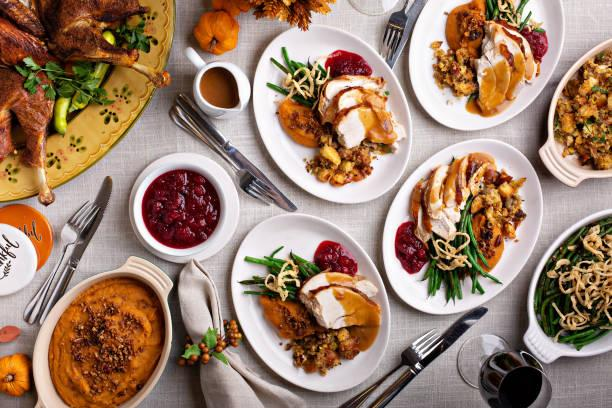Braised Crucian Carp: (250, 23, 409, 205), (230, 213, 388, 394), (382, 139, 542, 315), (31, 256, 174, 408), (406, 0, 565, 131), (522, 206, 610, 362), (538, 35, 609, 184)
